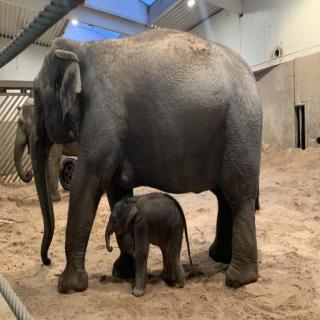Elephant: (25, 22, 272, 298), (101, 190, 199, 298)
